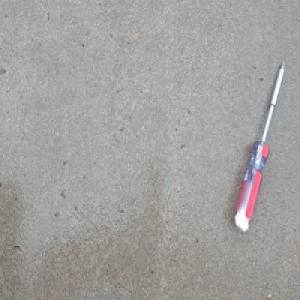Screwdriver: (233, 57, 286, 234)
